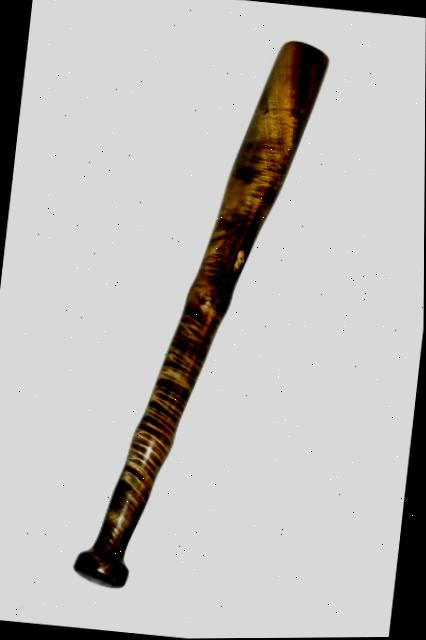baseball bat: (53, 6, 331, 600)
